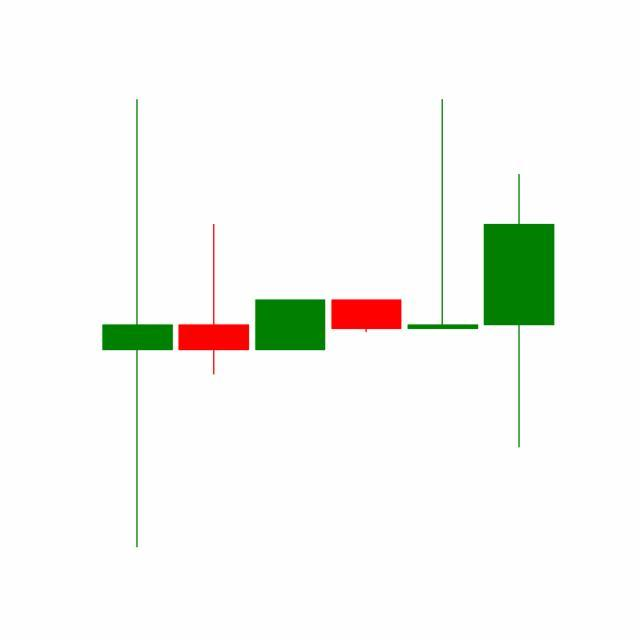Gravestone Doji: (404, 97, 482, 332)
